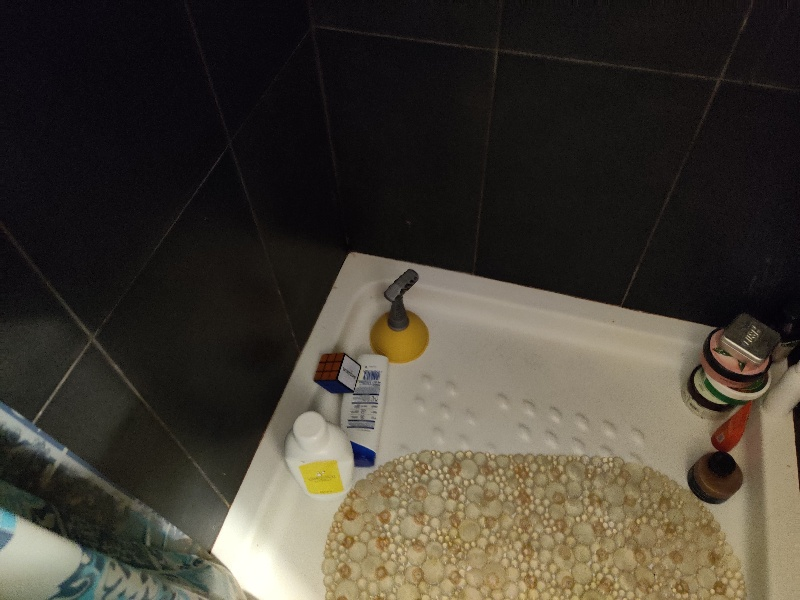rubik: (313, 354, 362, 394)
